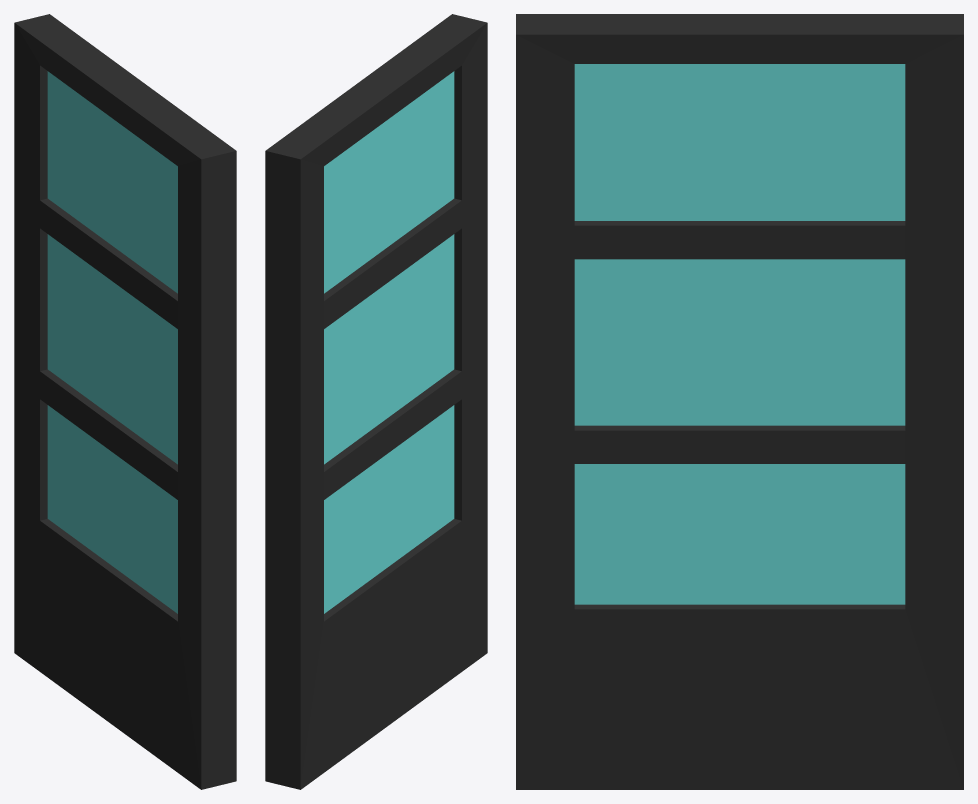
File: PuertaComedorNoVentana.fbx
The picture shows the model from 3 angles, left to right: view 1: azimuth 30°, elevation 25°; view 2: azimuth 150°, elevation 25°; view 3: azimuth 270°, elevation 25°; orthographic projection. The views are drawn at different scales.
Parts seen in each view (by area): view 1: Cube; view 2: Cube; view 3: Cube.
Part boxes in pixels (x1,y1,x2,y2): Cube: (14, 14, 236, 789); Cube: (265, 14, 487, 789); Cube: (516, 14, 963, 789).
Bounding box in the file's own units: 45.15 × 772 × 414.
